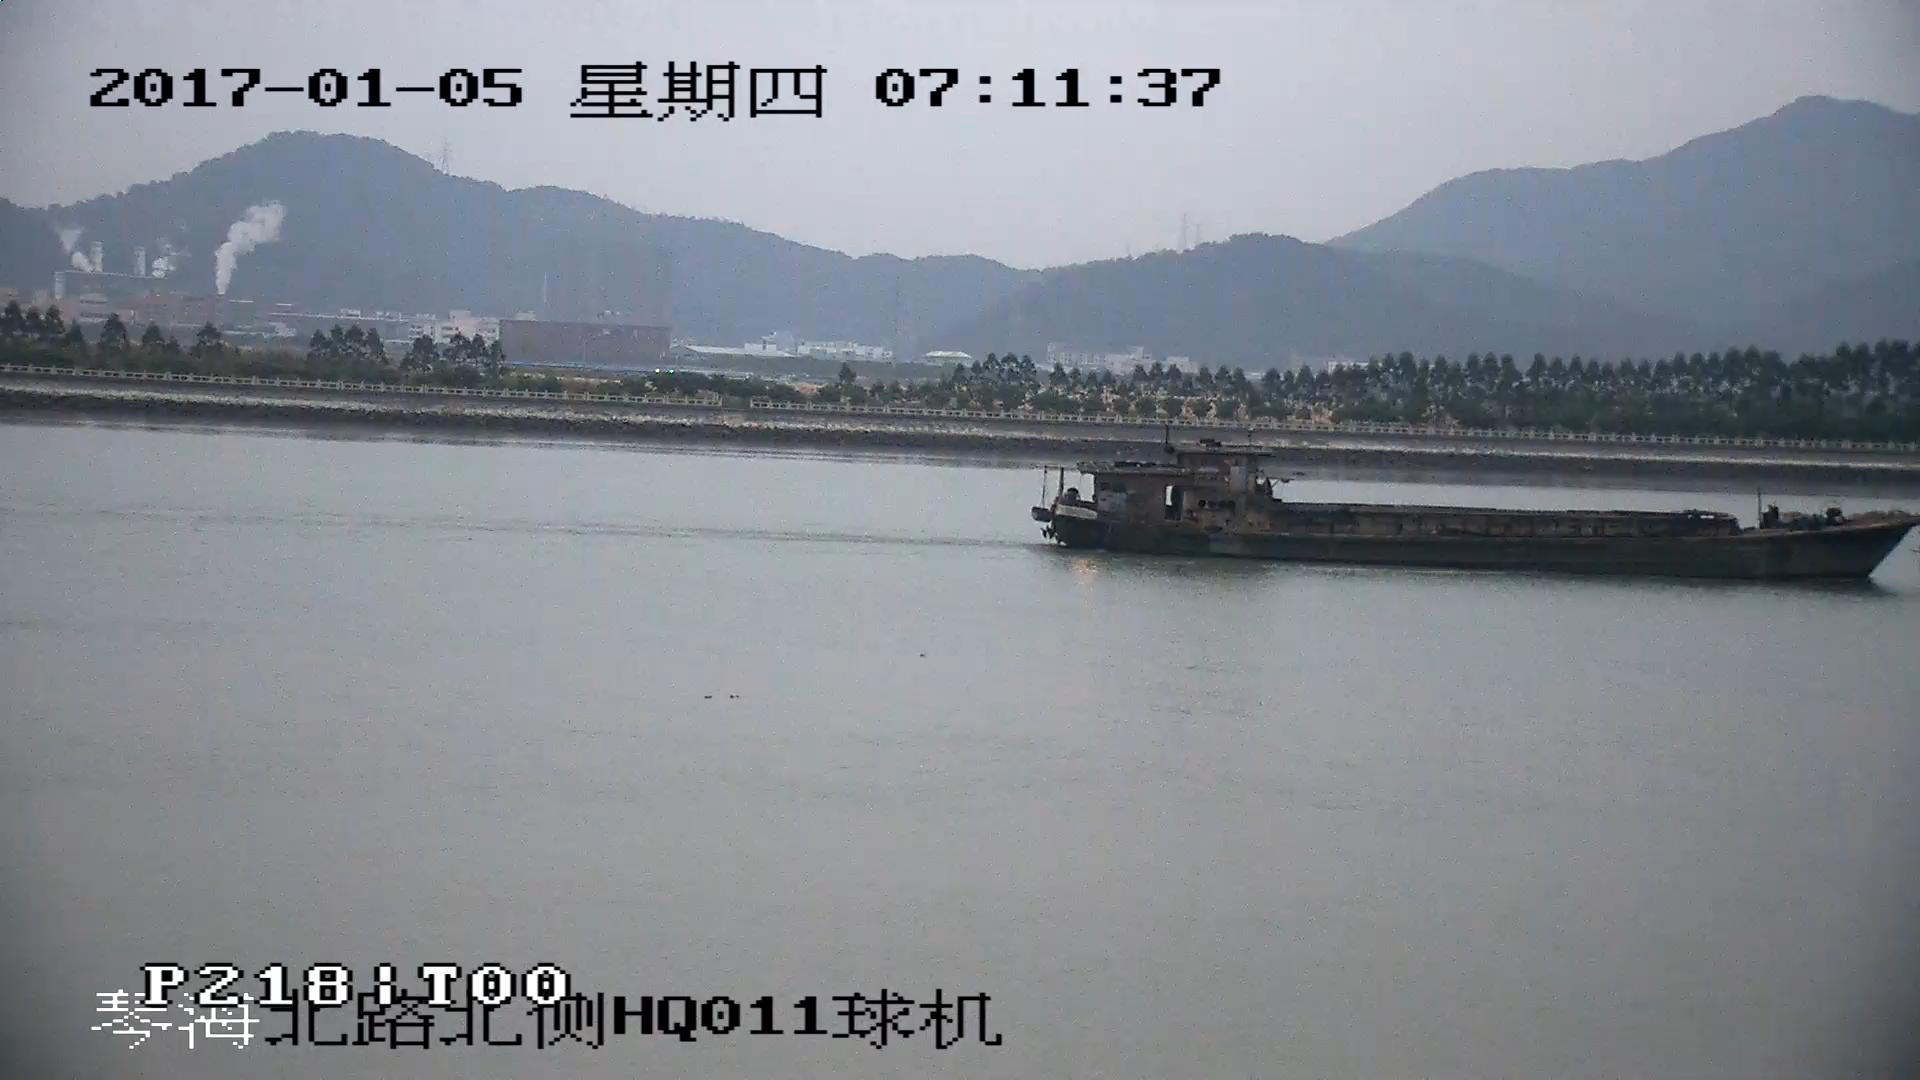bulk cargo carrier: (1028, 439, 1920, 584)
